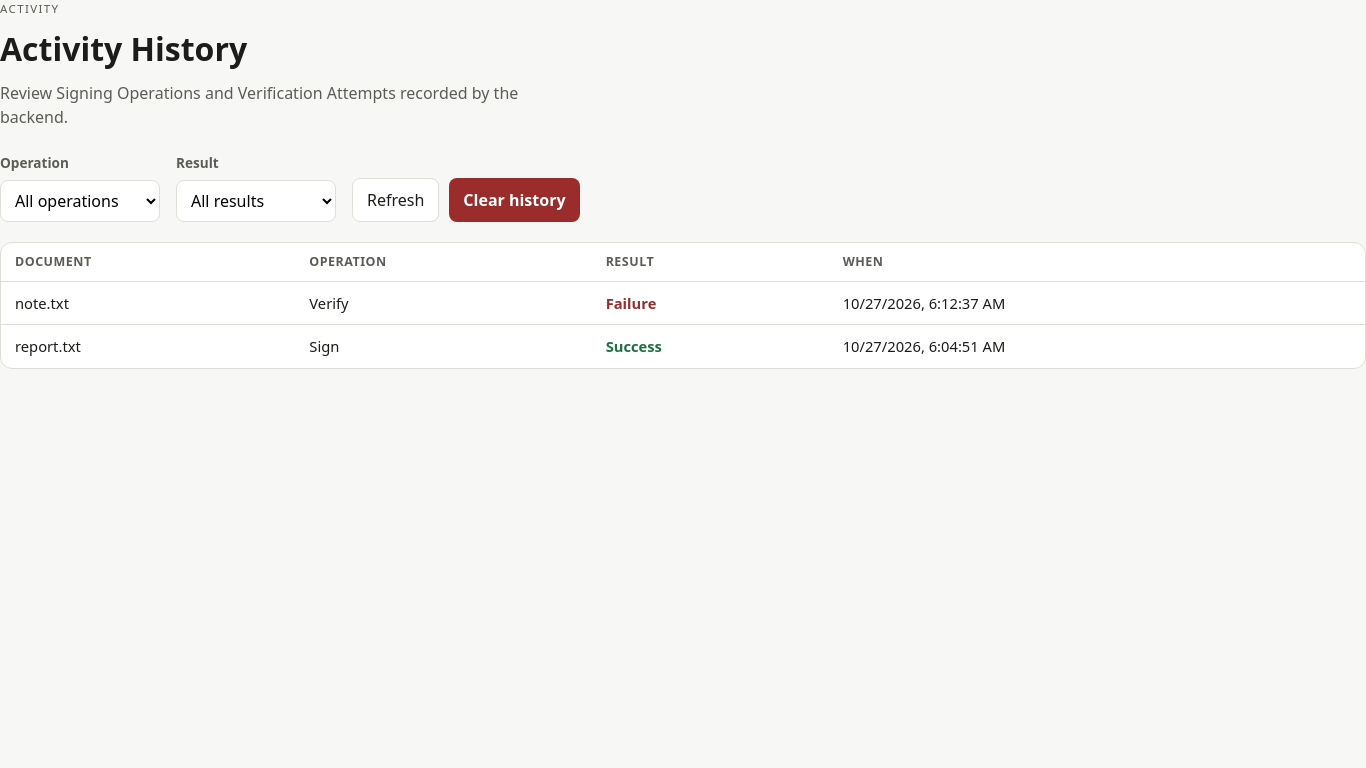
Test: Activity History › clear history requires confirmation and reloads
Expected: the text "note.txt" is shown, x1=1 y1=282 x2=295 y2=325
Click the button "Clear history". click: click(514, 200)
box: x1=449 y1=178 x2=580 y2=222
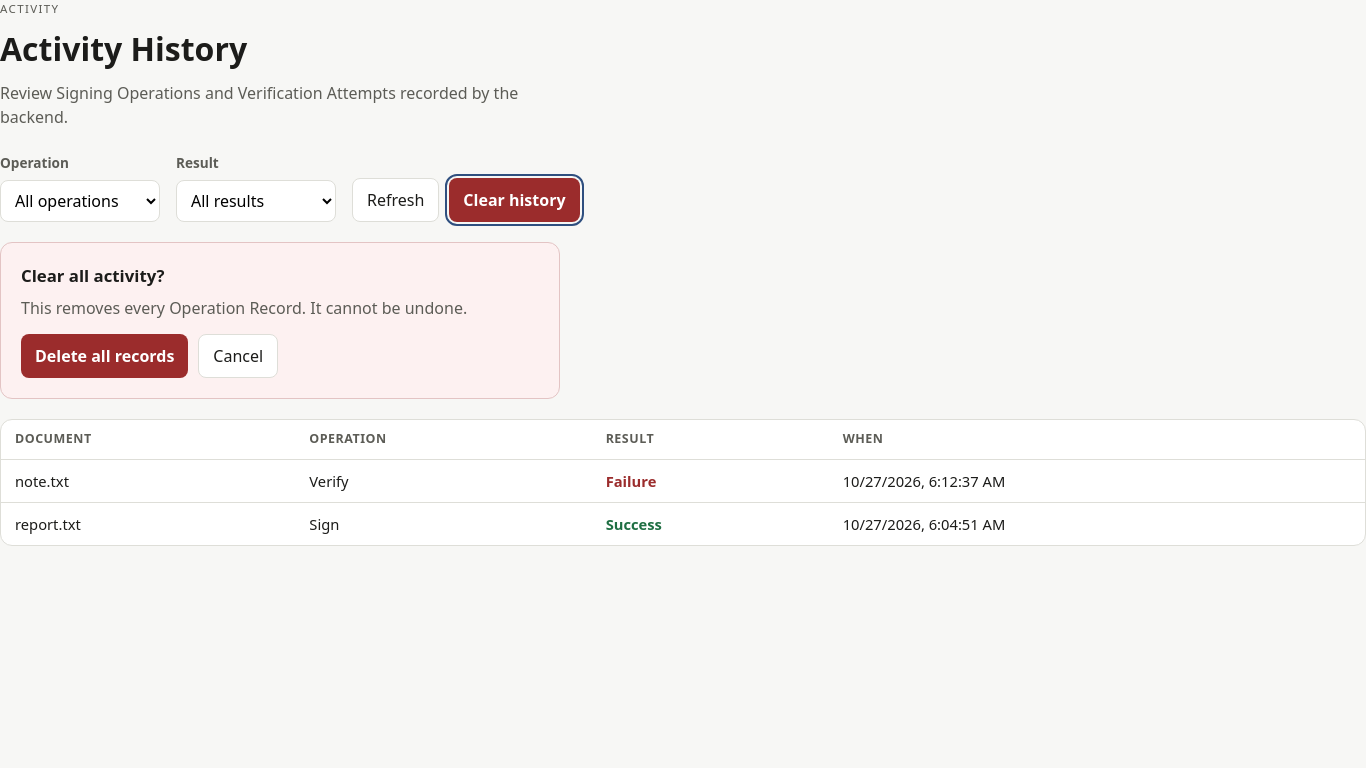
Now the dialog is shown, box x1=0 y1=242 x2=560 y2=399
Click the button "Cancel". click: click(238, 356)
box: x1=198 y1=334 x2=278 y2=378
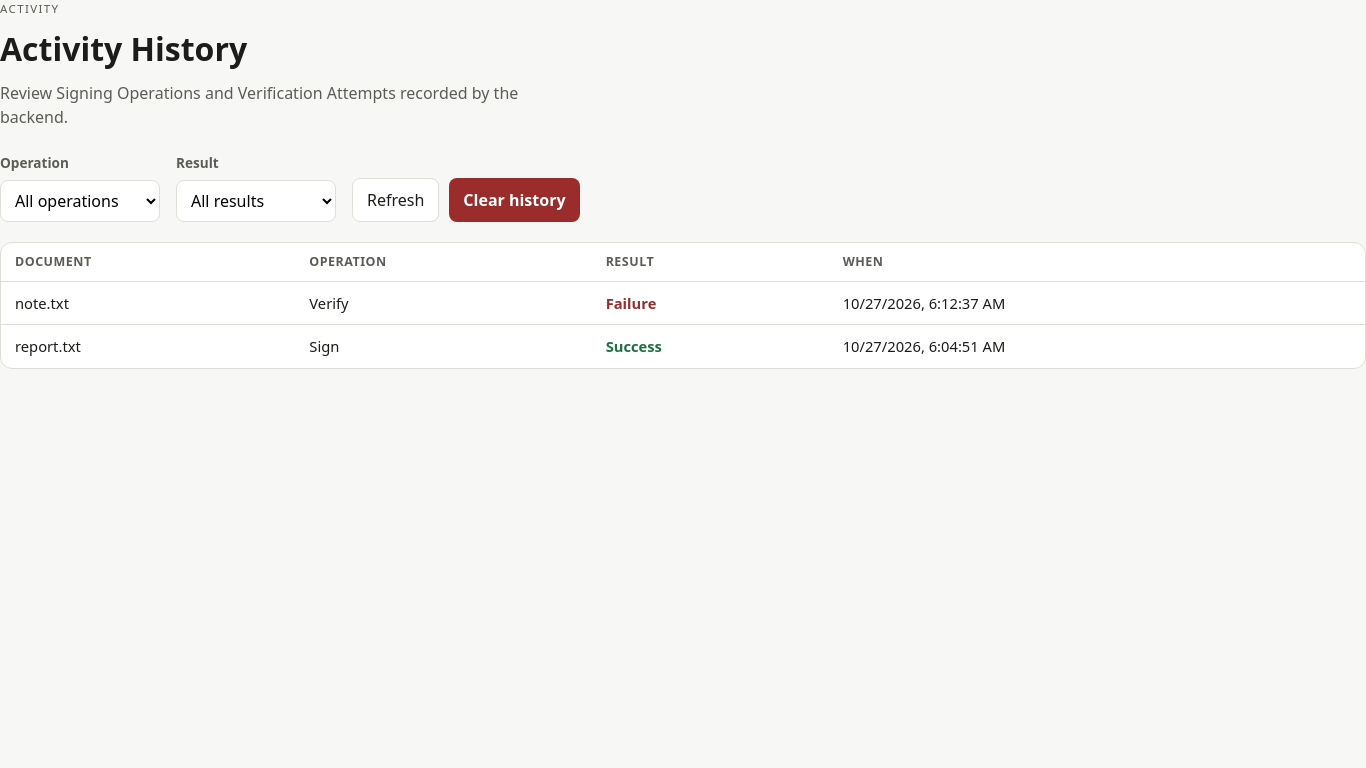
Now the dialog is gone
Click the button "Clear history". click: click(514, 200)
box: x1=449 y1=178 x2=580 y2=222
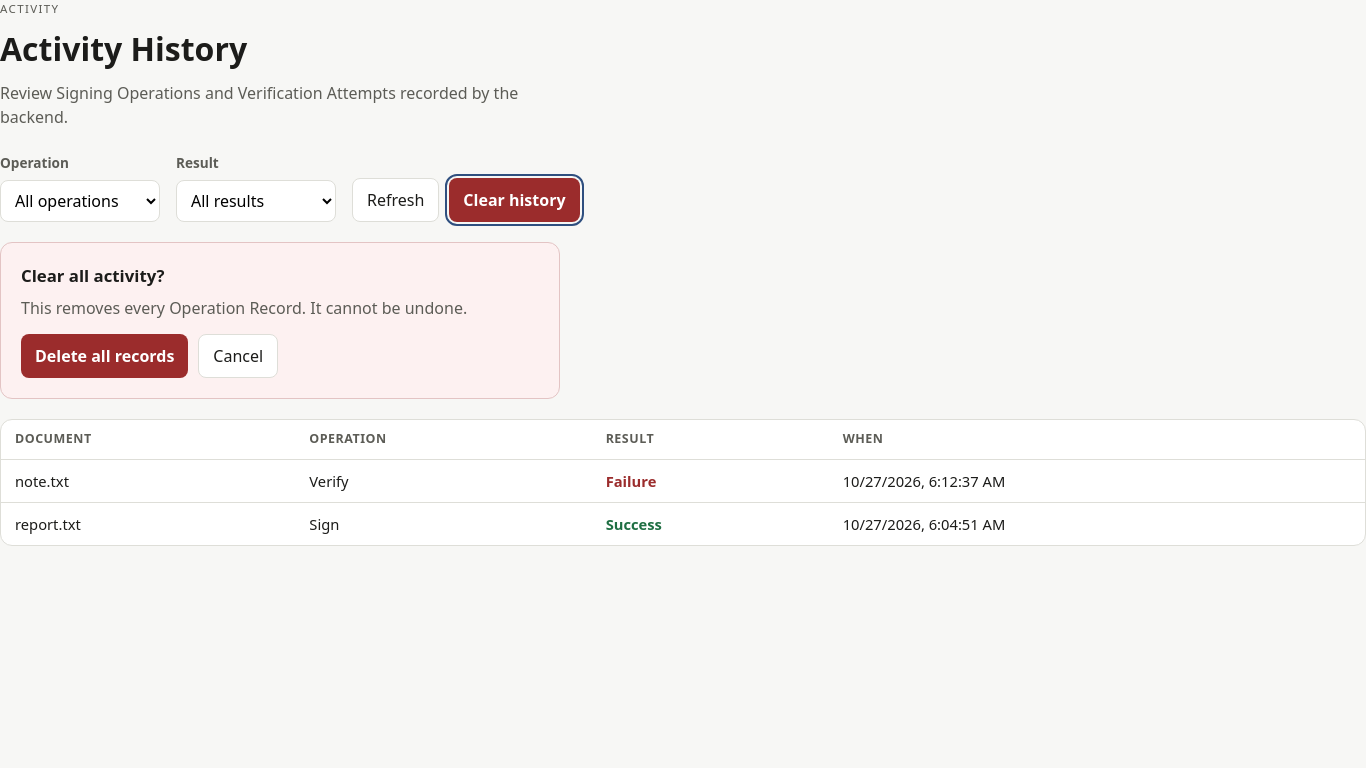
Click the button "Delete all records". click: click(105, 356)
box: x1=21 y1=334 x2=188 y2=378
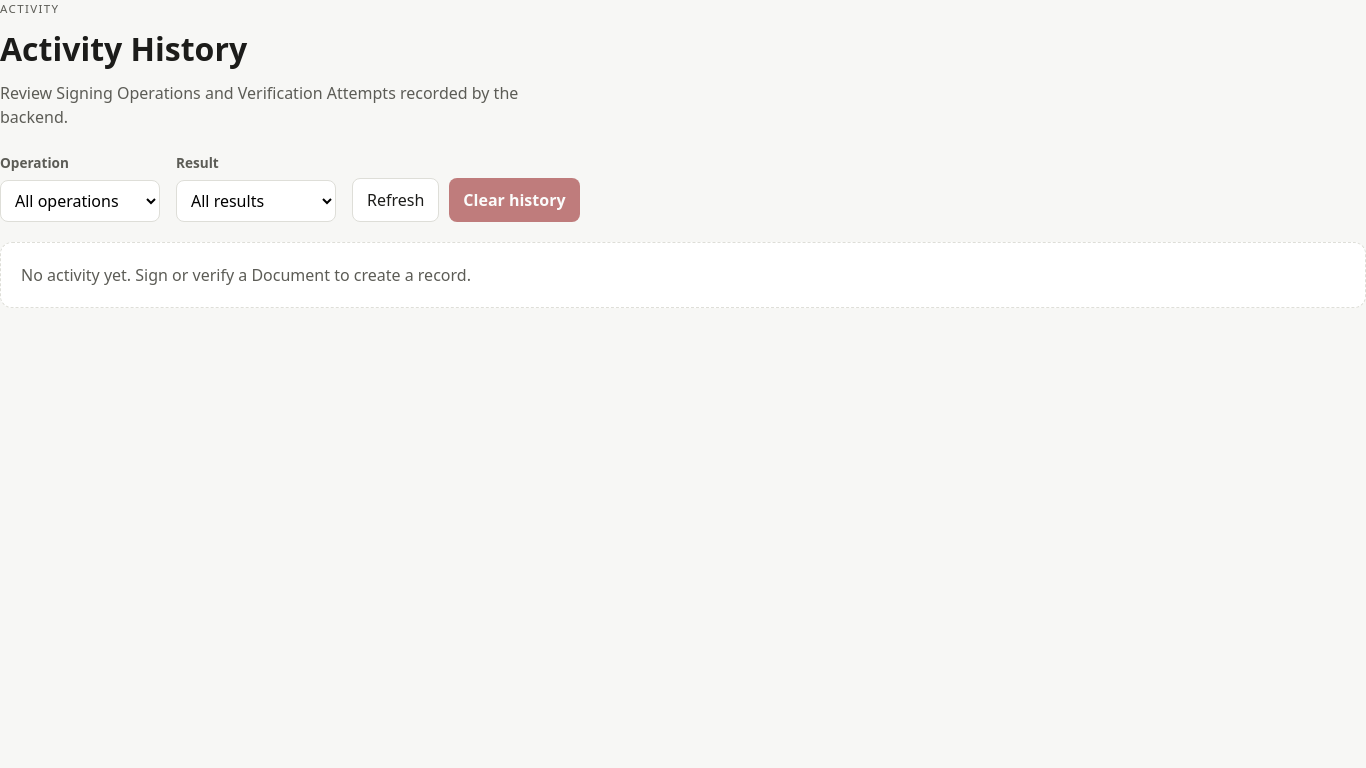
Now the text "No activity" is shown, box x1=21 y1=264 x2=471 y2=286
